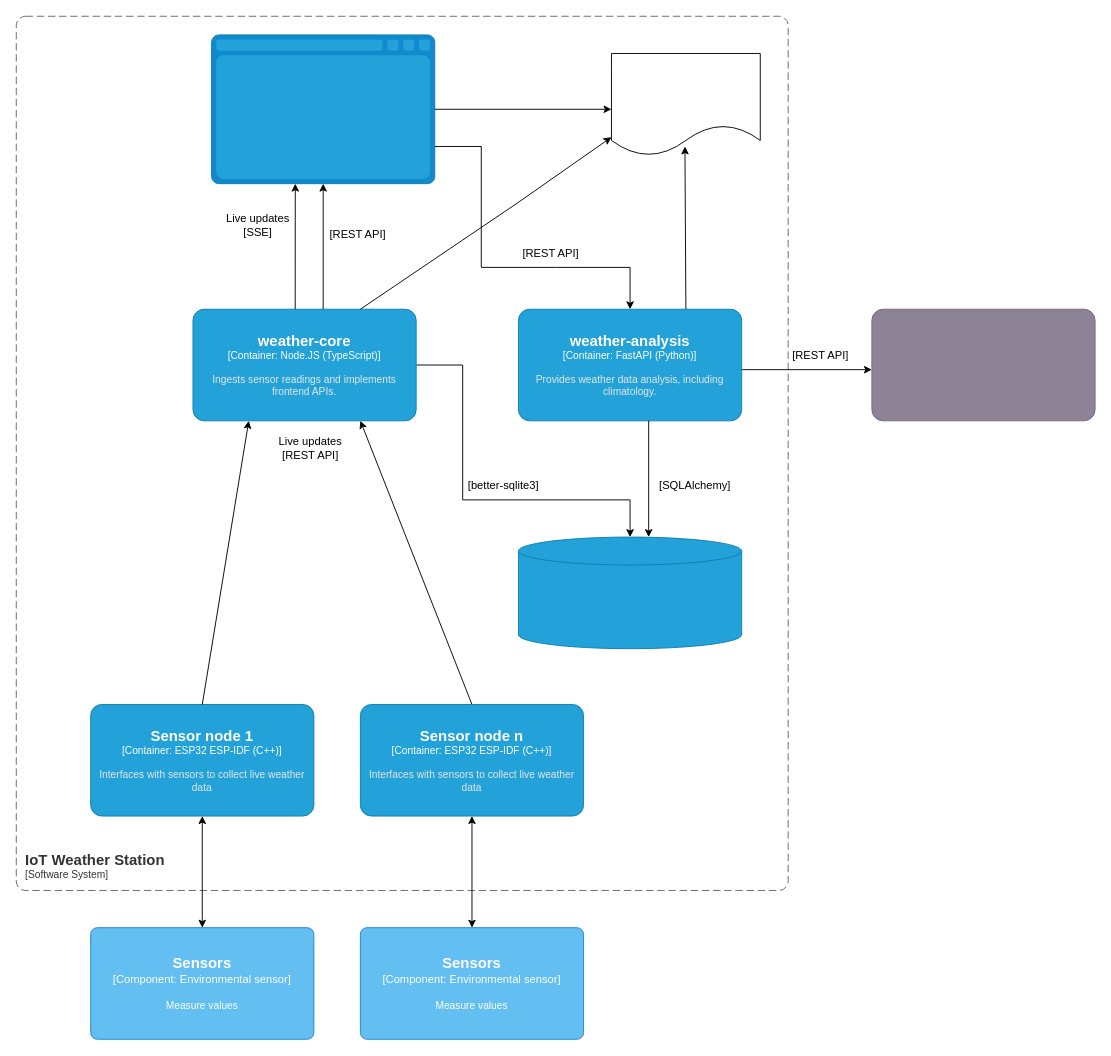
Some shapes in this 1111 by 1056 pixel diagram are drawn without their labels. The shapes that lost their labels are listed below. From the top down, each one's centre as x and y in pixels, then its label:
At (x=323, y=109): "web-portal [Container: React.JS (JavaScript)] Web UI".
At (x=685, y=104): "config.json".
At (x=983, y=364): "OpenAI Models [External] AI summaries of weather data and assistance.".
At (x=630, y=592): "weather.db [Container: Sqlite] Stores weather data.".
